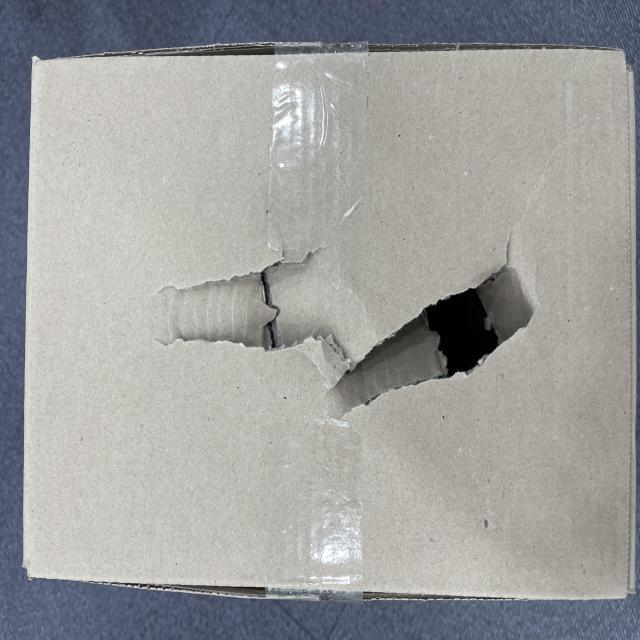damaged: (161, 430, 291, 640), (211, 211, 293, 406)
